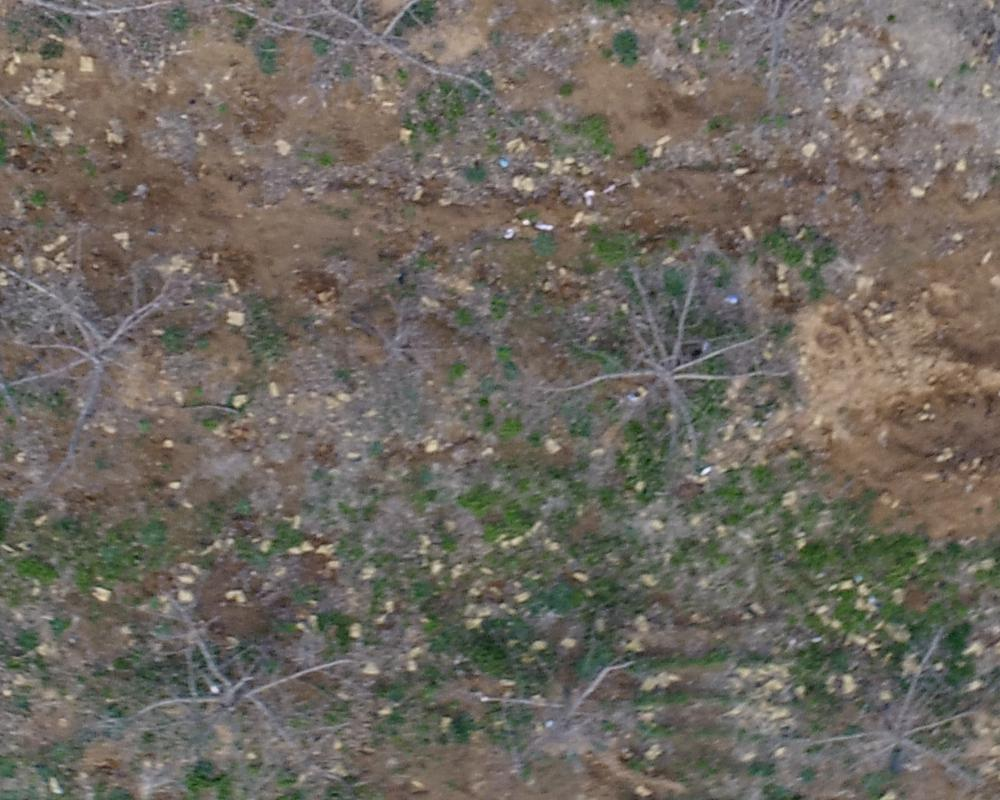apple: (561, 232, 788, 483), (124, 581, 373, 784), (10, 220, 199, 483), (210, 10, 516, 112), (815, 627, 990, 790), (482, 642, 652, 790), (683, 10, 849, 67), (357, 299, 467, 384)
